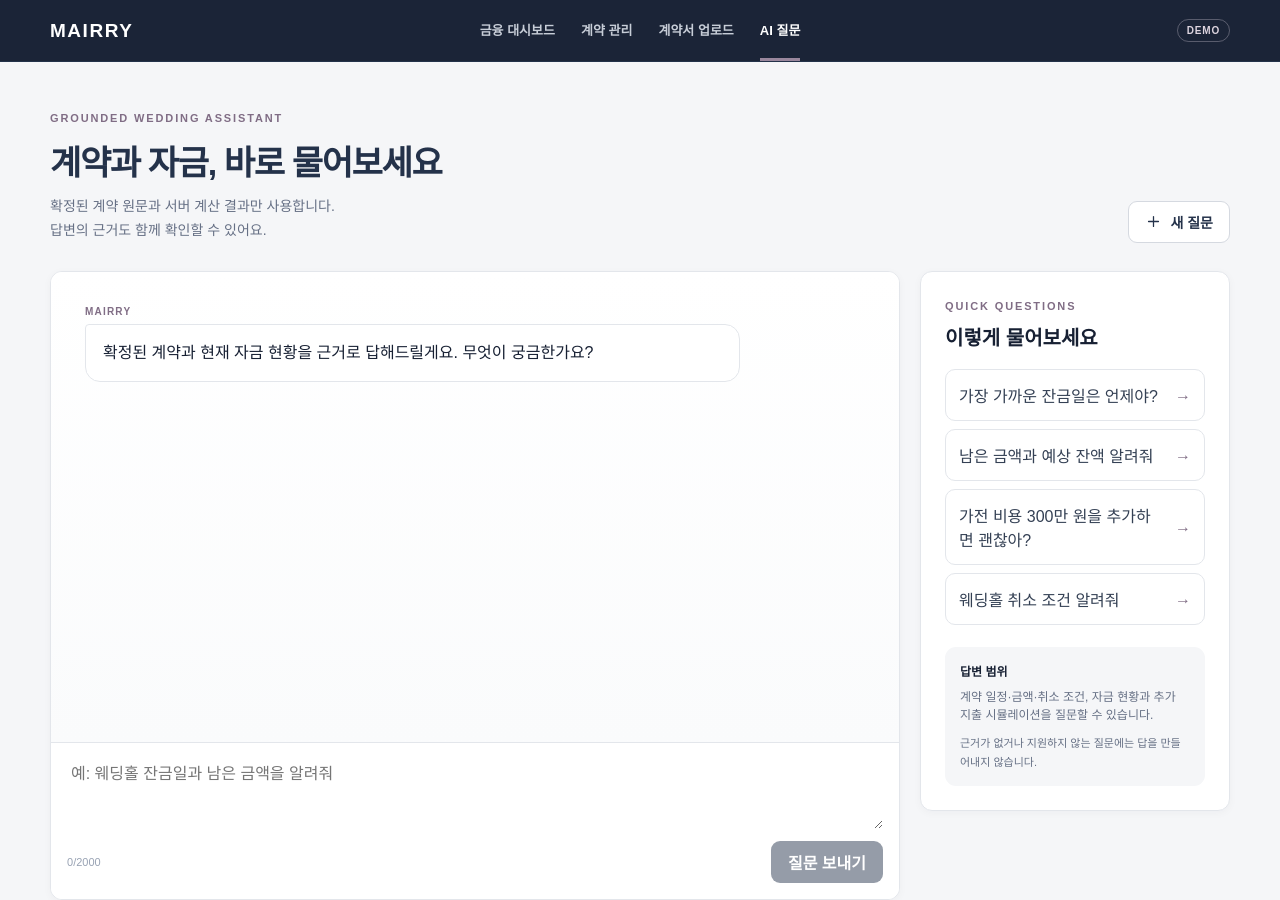
Test: ChatPage › keeps the failed question and retries it
Type "확인해줘" into the text box named "AI 플래너에게 질문하기" at (475, 794), box [67,759,883,829]
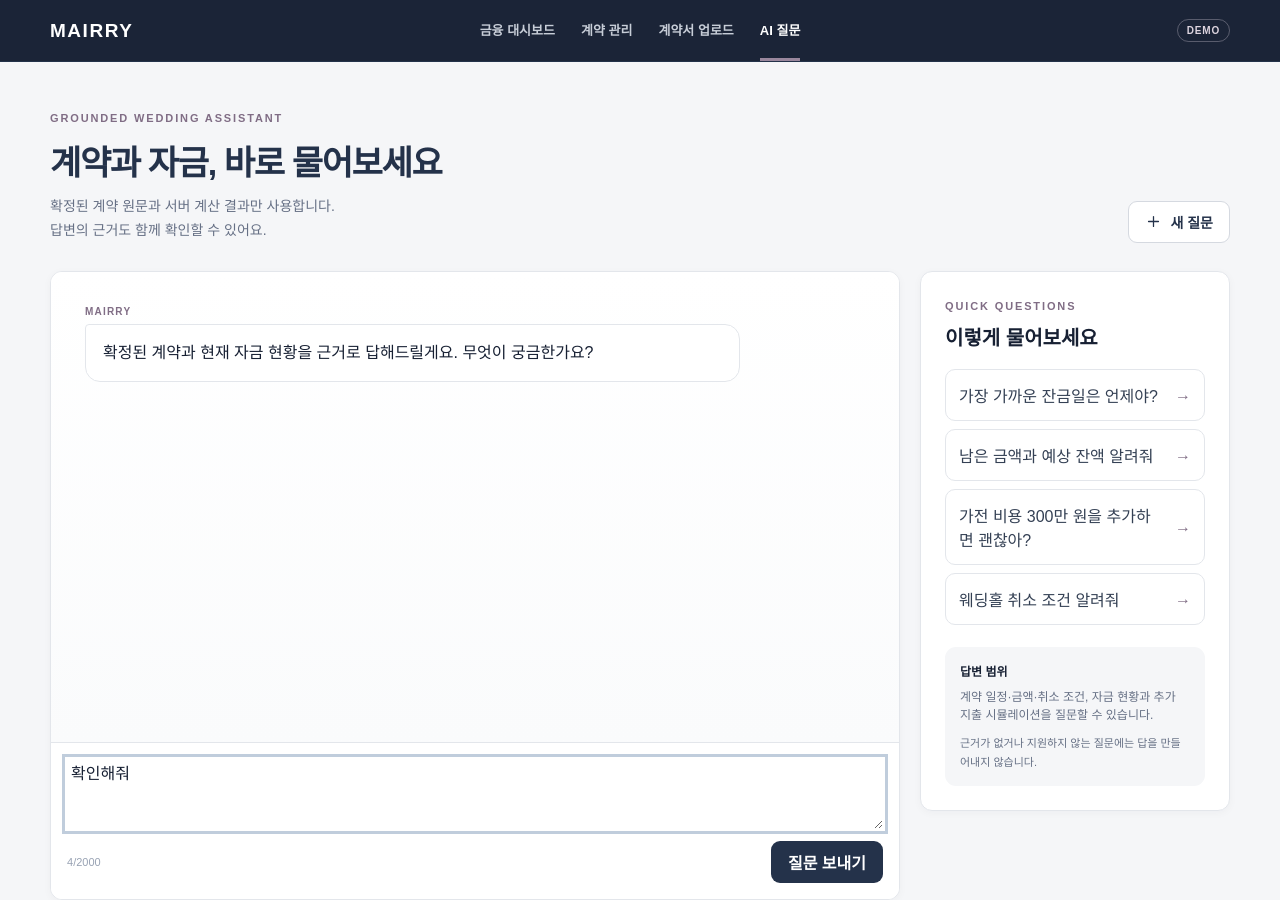
Click the button "질문 보내기" at (827, 862), box [771,841,883,883]
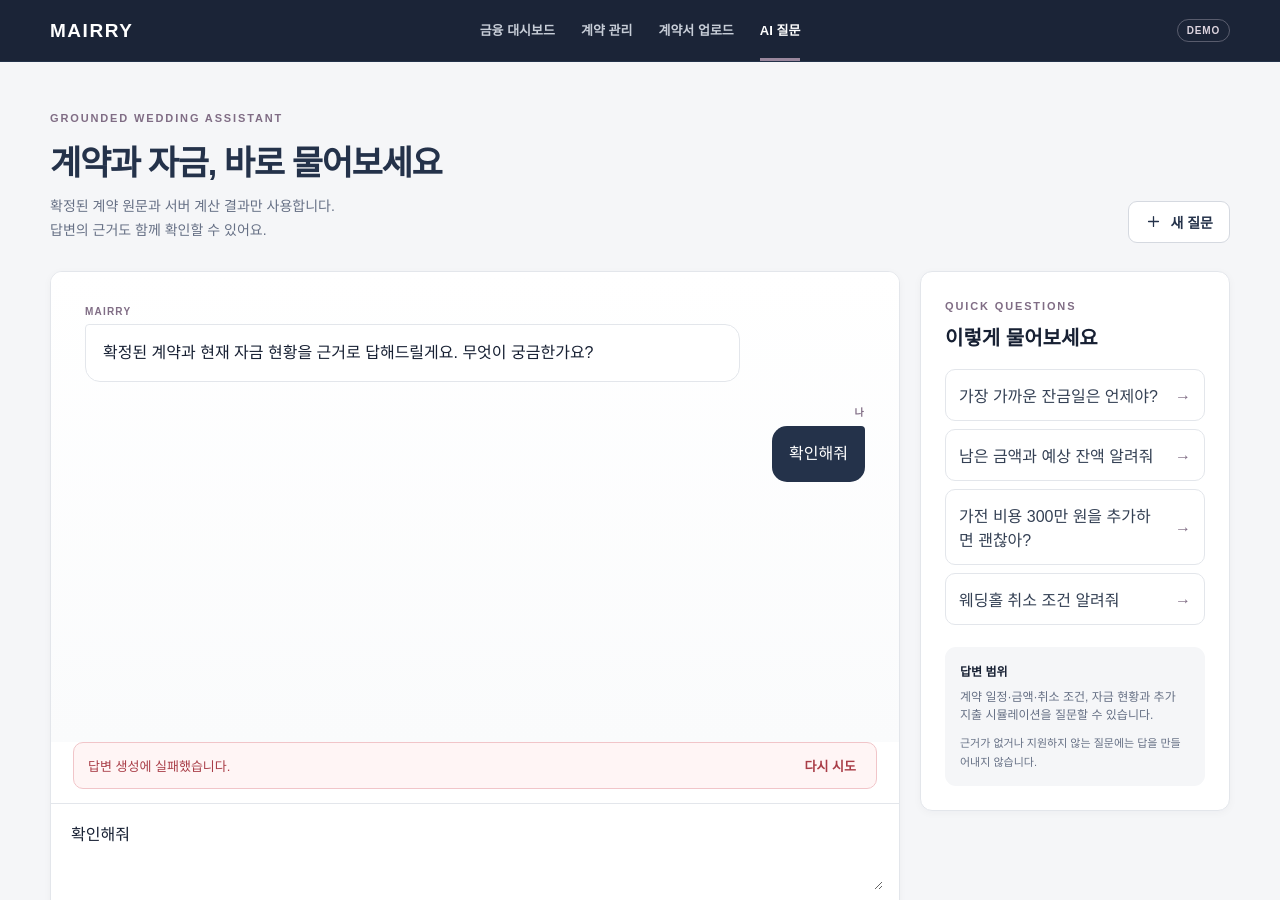
Check: the message shows "답변 생성에 실패했습니다.", box [88,759,230,774]
Click the button "다시 시도" at (830, 765), box [798,755,862,776]
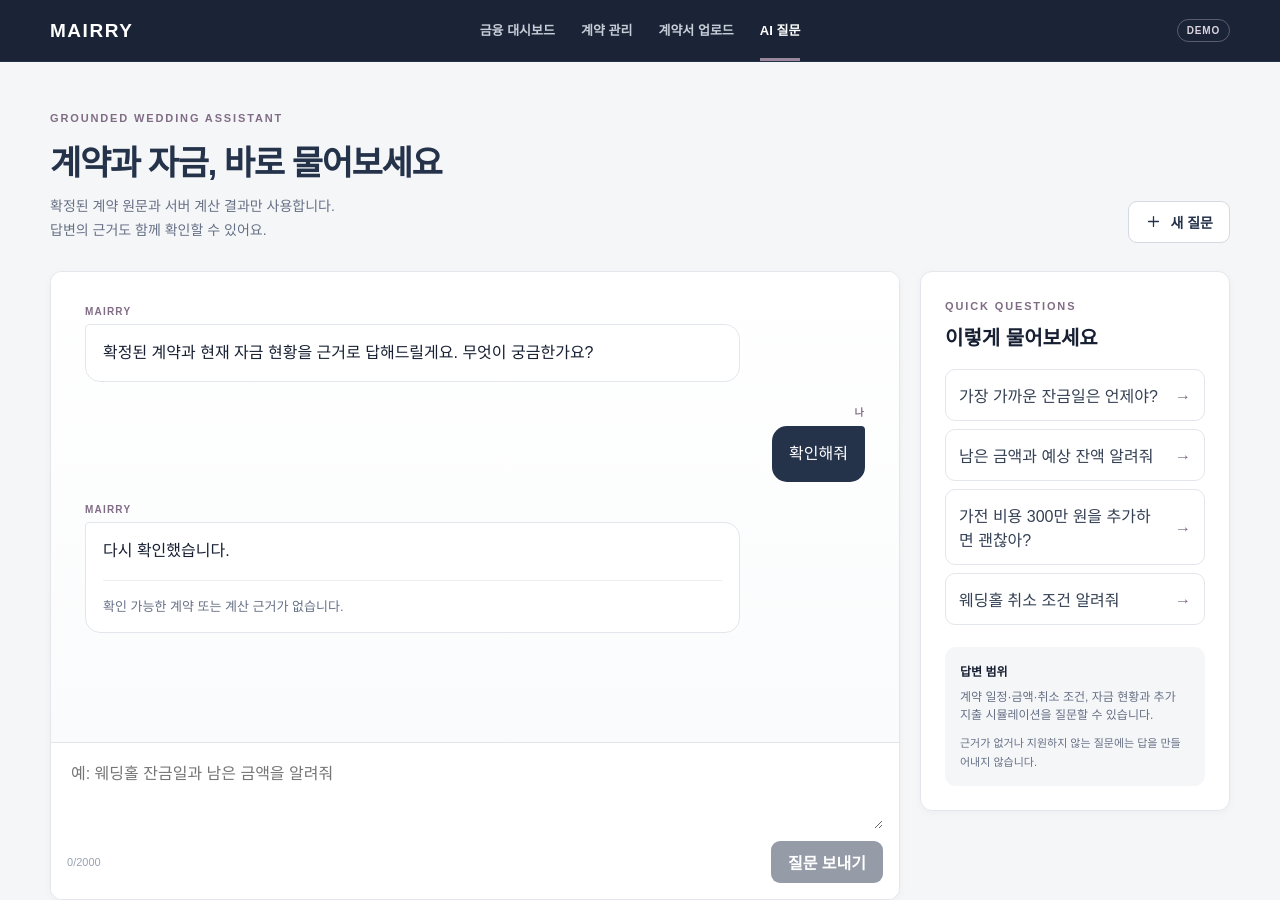
Check: the text "다시 확인했습니다." is shown, box [103,542,230,559]
